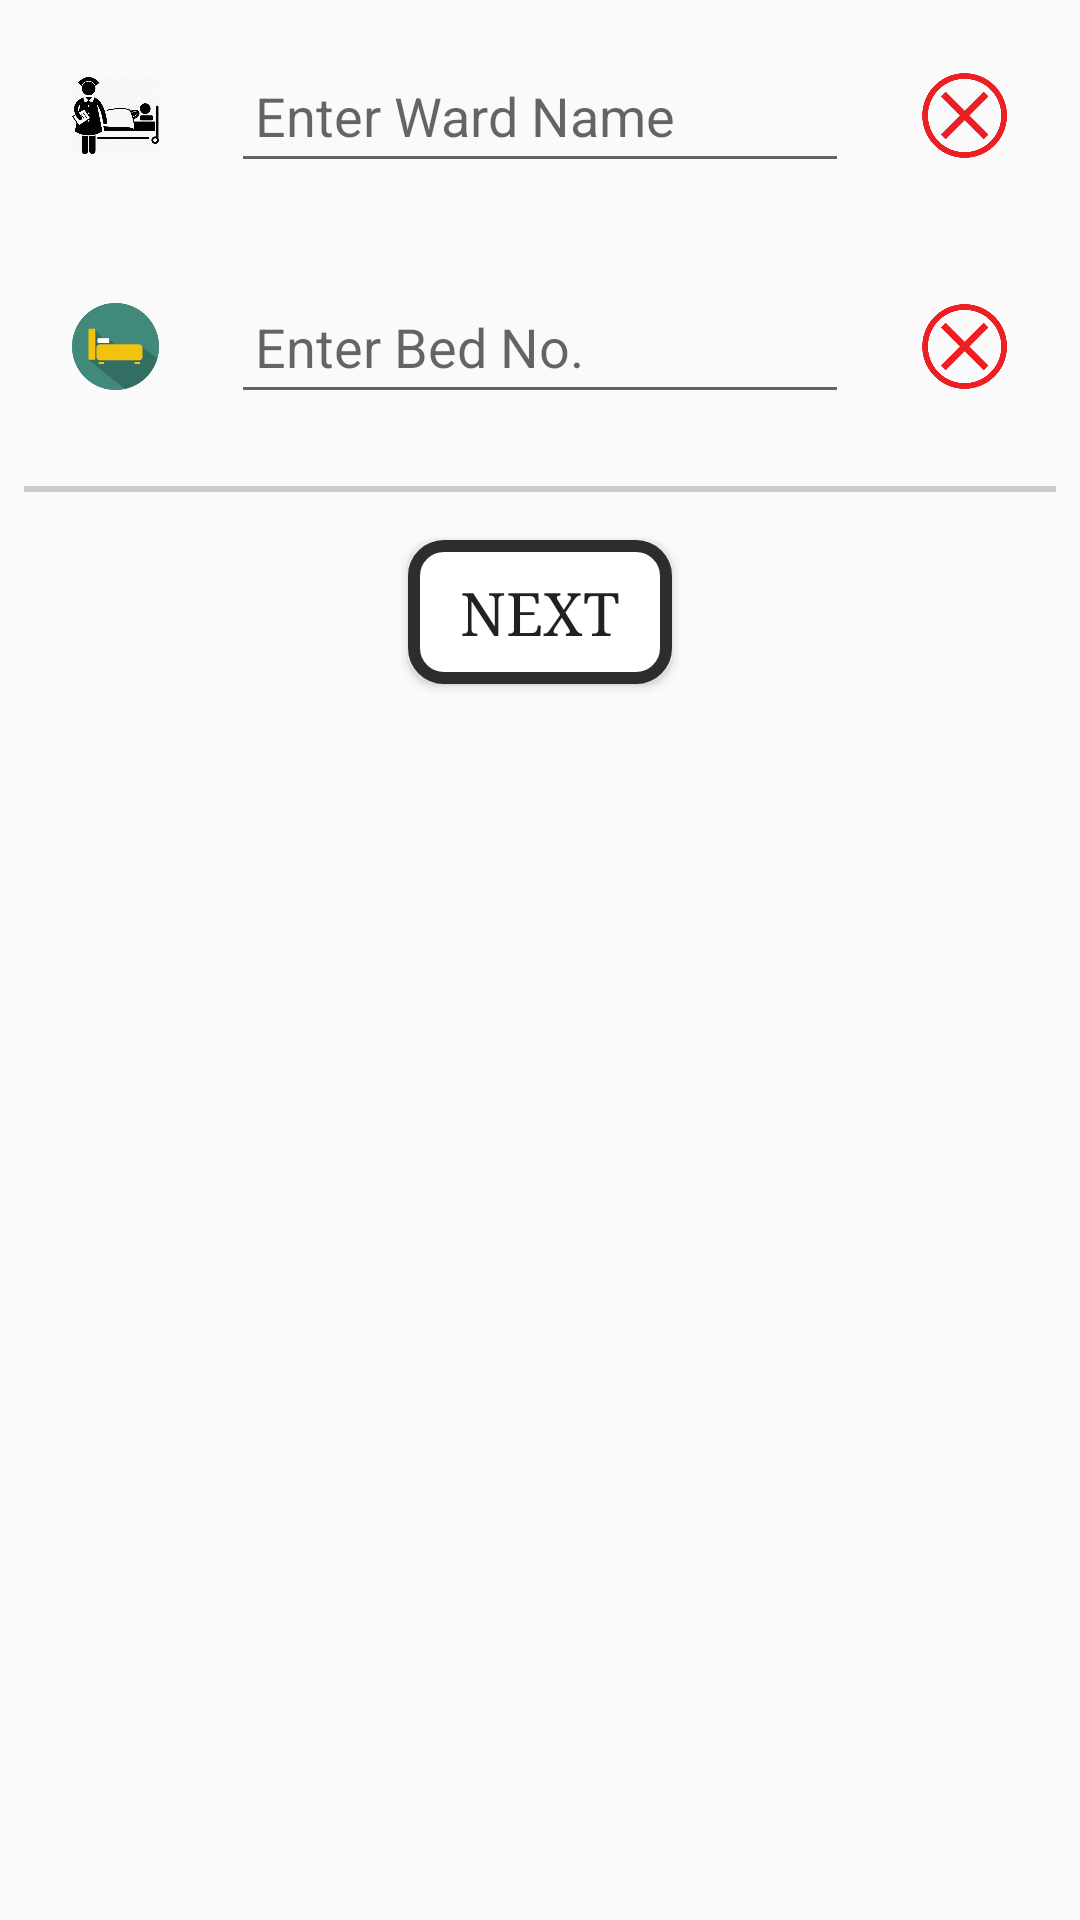

Icons on this 1080 x 1920 Android screen, each with the point to tap as (x=x, y=y):
wrong: (x=964, y=115), (x=964, y=346)
